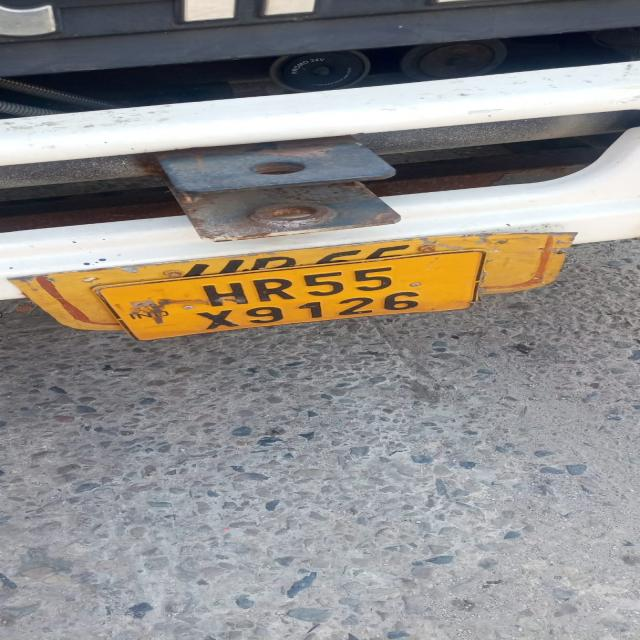License-plate: (103, 253, 469, 340)
